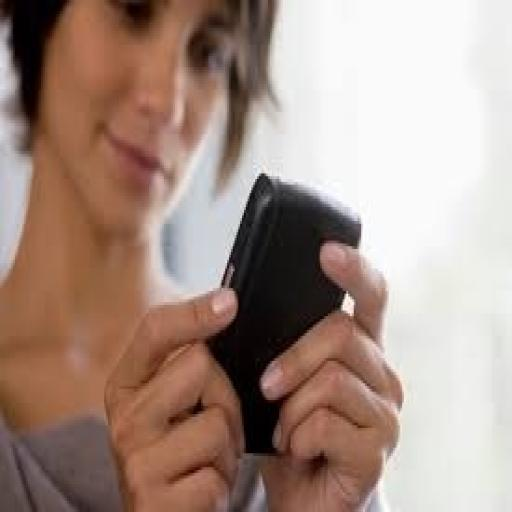texting: (0, 0, 404, 509)
